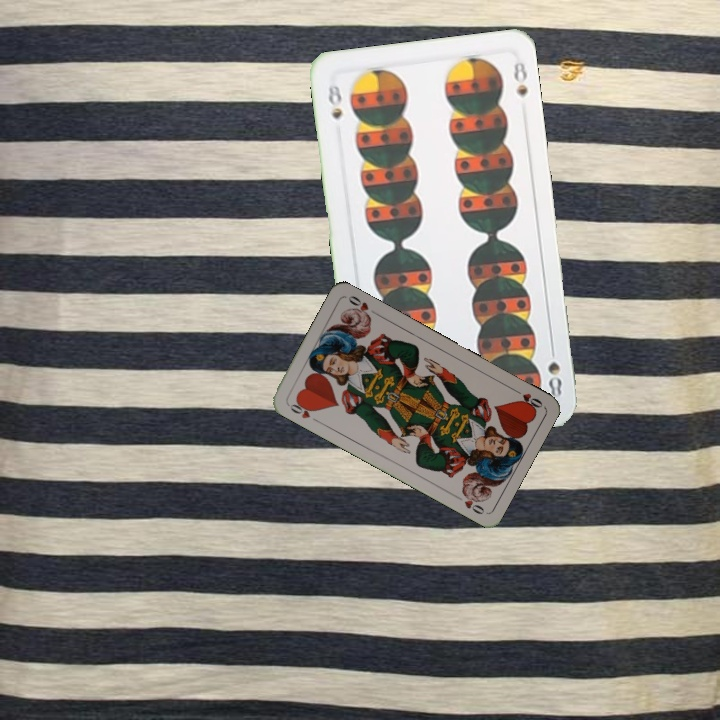HO: (284, 396, 322, 425), (508, 384, 545, 412)
S8: (544, 341, 566, 400), (324, 80, 345, 122)
